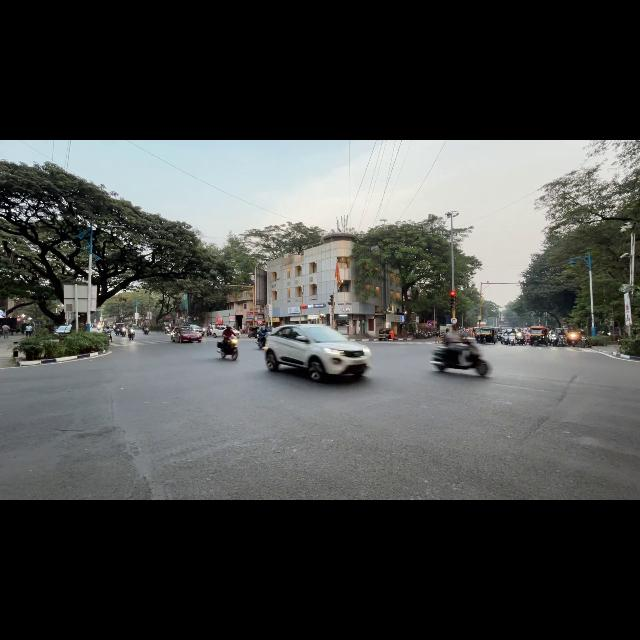car: (265, 325, 370, 380), (171, 326, 202, 342), (54, 324, 72, 340), (190, 324, 204, 335), (378, 328, 390, 340), (233, 329, 240, 337)
motorcycle: (431, 342, 489, 376), (218, 337, 237, 360), (567, 332, 580, 346), (256, 333, 267, 349), (548, 332, 558, 346), (557, 334, 567, 348), (580, 335, 590, 348), (516, 332, 525, 345), (509, 333, 515, 345), (205, 326, 212, 336), (502, 333, 508, 344), (128, 328, 134, 339), (120, 329, 126, 336), (143, 328, 149, 334), (115, 328, 120, 335), (165, 327, 170, 333)
